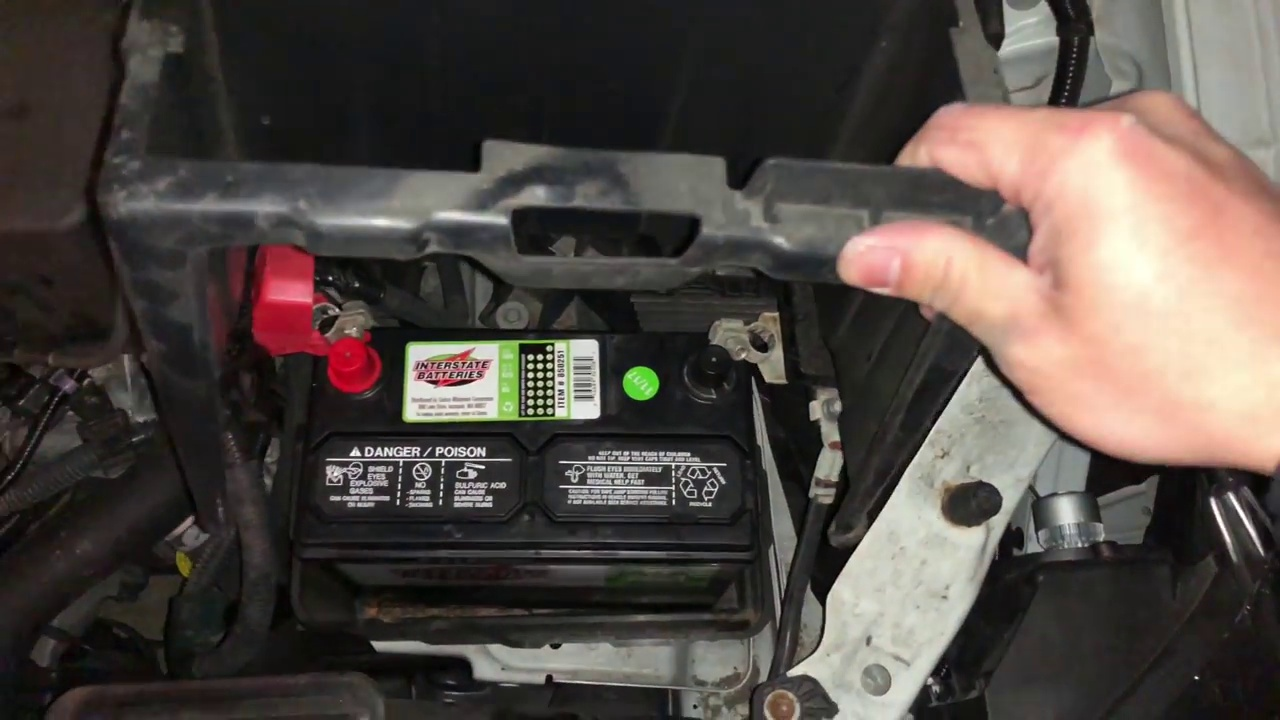battery: (268, 286, 766, 583)
neg_disconnected: (682, 292, 782, 410)
pos_disconnected: (243, 252, 385, 398)
